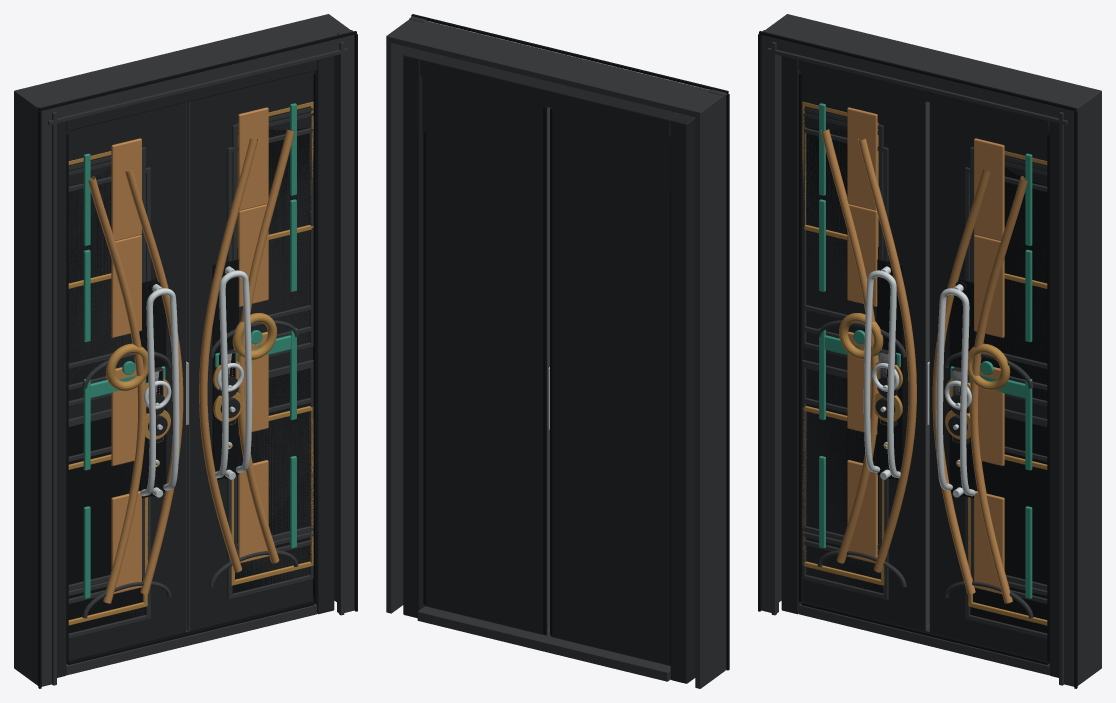
File: d90-door-custom.glb
3 renders of one model, left to right at view 1: azimuth 30°, elevation 25°; view 2: azimuth 150°, elevation 25°; view 3: azimuth 330°, elevation 25°, orthographic.
Parts seen in each view (by area): view 1: DoorLeaf_Main_Front, DoorLeaf_Child_Front, Casing_Left_WallReturn, Frame_Right_StructuralJamb, Casing_Left_FrontFlange, Casing_Right_FrontFlange, Casing_Top_WallReturn, ChildPanel_69_Inset, Frame_Left_StructuralJamb, MainPanel_69_Inset, D90Jinqu_Main_Ribbon_80, D90Jinqu_Child_Ribbon_-100 (+51 smaller); view 2: DoorLeaf_Main_Back, DoorLeaf_Child_Back, Casing_Left_WallReturn, Frame_Left_StructuralJamb, Frame_Right_StructuralJamb, Casing_Right_WallReturn, Casing_Top_WallReturn, Frame_Top_StructuralHead, D90PhotoMask_guanmin_Main_Back, D90PhotoMask_guanmin_Child_Back, Frame_Threshold, Casing_Left_ShadowReveal (+6 smaller); view 3: DoorLeaf_Child_Front, DoorLeaf_Main_Front, Casing_Right_WallReturn, Frame_Left_StructuralJamb, Casing_Right_FrontFlange, Casing_Left_FrontFlange, Casing_Top_WallReturn, MainPanel_69_Inset, MainPanel_173_Inset, Frame_Right_StructuralJamb, MainPanel_178_Inset, D90Jinqu_Child_Ribbon_80 (+52 smaller).
Boxes of the visible parts, x1,y1,x2,y2 form: DoorLeaf_Main_Front: (190,101,312,630); DoorLeaf_Child_Front: (68,103,185,660); Casing_Left_WallReturn: (14,90,38,685); Frame_Right_StructuralJamb: (316,56,334,614); Casing_Left_FrontFlange: (37,103,54,686); Casing_Right_FrontFlange: (337,30,354,612); Casing_Top_WallReturn: (16,14,348,106); ChildPanel_69_Inset: (68,417,139,598); Frame_Left_StructuralJamb: (57,121,66,677); MainPanel_69_Inset: (237,368,309,547); D90Jinqu_Main_Ribbon_80: (199,138,257,572); D90Jinqu_Child_Ribbon_-100: (88,176,146,603); DoorLeaf_Main_Back: (424,106,546,635); DoorLeaf_Child_Back: (551,111,670,665); Casing_Left_WallReturn: (695,95,725,688); Frame_Left_StructuralJamb: (670,113,695,683); Frame_Right_StructuralJamb: (403,48,428,618); Casing_Right_WallReturn: (386,19,412,613); Casing_Top_WallReturn: (388,19,720,116); Frame_Top_StructuralHead: (420,52,679,136); D90PhotoMask_guanmin_Main_Back: (422,76,543,135); D90PhotoMask_guanmin_Child_Back: (551,108,670,191); Frame_Threshold: (417,606,670,681); Casing_Left_ShadowReveal: (726,93,729,670); DoorLeaf_Child_Front: (803,101,925,630); DoorLeaf_Main_Front: (930,103,1047,660); Casing_Right_WallReturn: (1077,90,1101,685); Frame_Left_StructuralJamb: (781,56,802,614); Casing_Right_FrontFlange: (1061,103,1078,686); Casing_Left_FrontFlange: (761,30,778,612); Casing_Top_WallReturn: (767,14,1099,106); MainPanel_69_Inset: (976,417,1047,598); MainPanel_173_Inset: (976,168,1047,400); Frame_Right_StructuralJamb: (1049,121,1058,677); MainPanel_178_Inset: (976,182,1047,362); D90Jinqu_Child_Ribbon_80: (858,138,916,572).
Bounding box in the file's own units: 1.54 × 2.68 × 0.2687.
12 materials, 2 textured.
